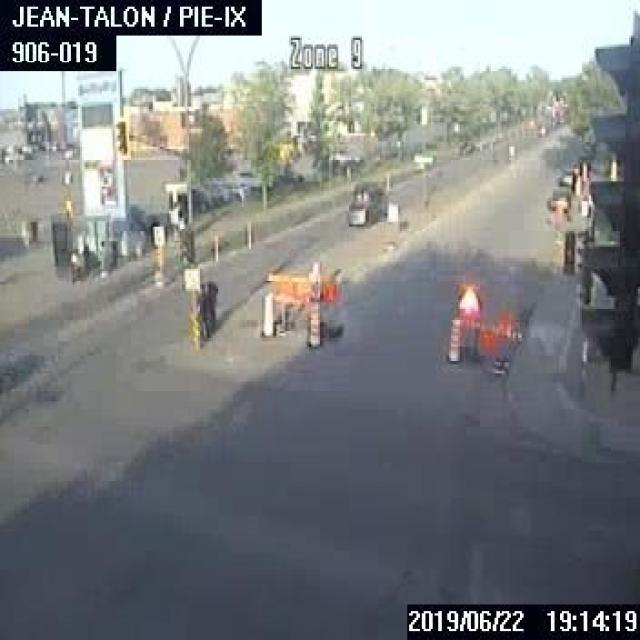construction: (262, 261, 341, 341), (451, 282, 521, 368), (258, 290, 272, 337), (305, 299, 319, 346), (444, 318, 459, 361)
pedestrian: (197, 281, 209, 336), (206, 278, 215, 332)
vehicle: (346, 197, 388, 224), (544, 184, 570, 210), (352, 181, 382, 195), (556, 167, 577, 186)
